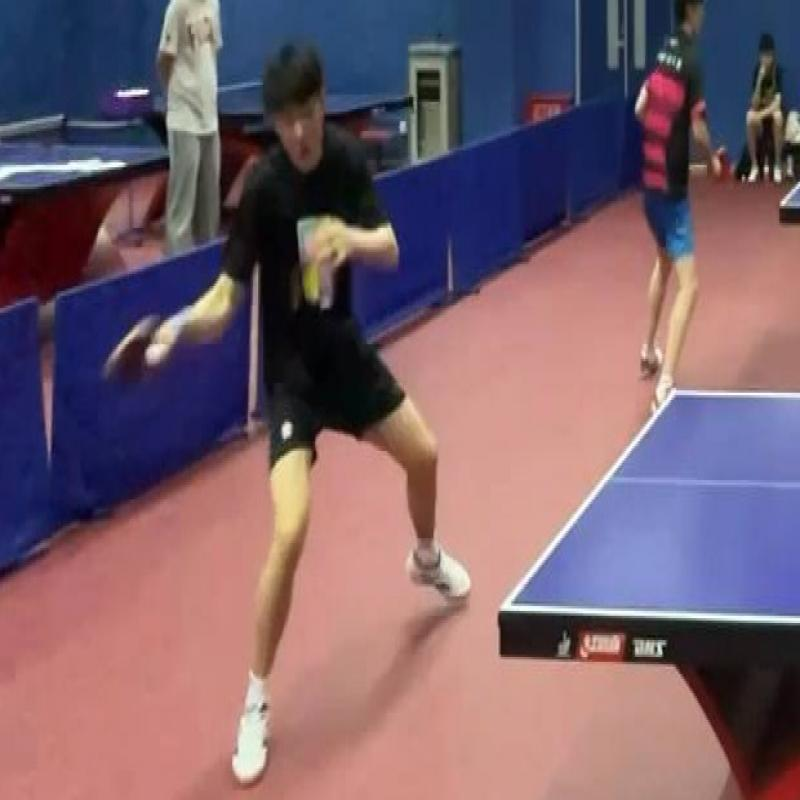bats: (99, 305, 168, 388)
